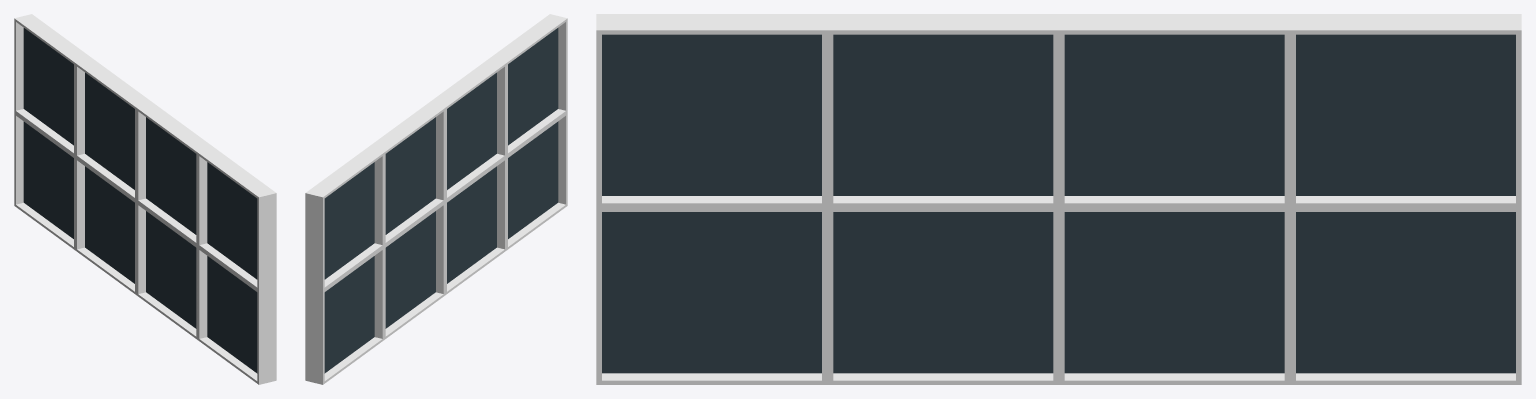
Rendered from Janela4x2.fbx.
3 views of the same model, side by side, from view 1: azimuth 30°, elevation 25°; view 2: azimuth 150°, elevation 25°; view 3: azimuth 270°, elevation 25° (orthographic). The views are drawn at different scales.
Parts seen in each view (by area): view 1: Janela4X2; view 2: Janela4X2; view 3: Janela4X2.
Boxes of the visible parts, x1,y1,x2,y2 form: Janela4X2: (14,14,276,384); Janela4X2: (305,14,567,384); Janela4X2: (596,14,1521,384).
Size of the model in its own units: 20 by 203 by 480.
